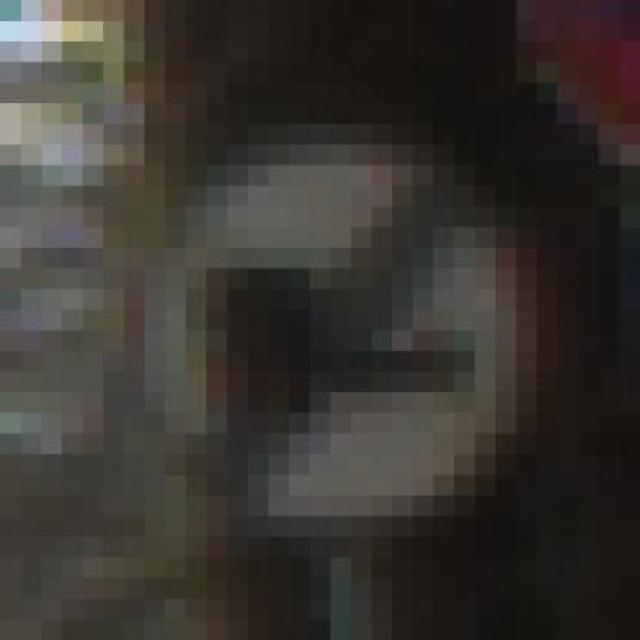Overtaking by trucks is prohibited: (82, 124, 620, 578)
